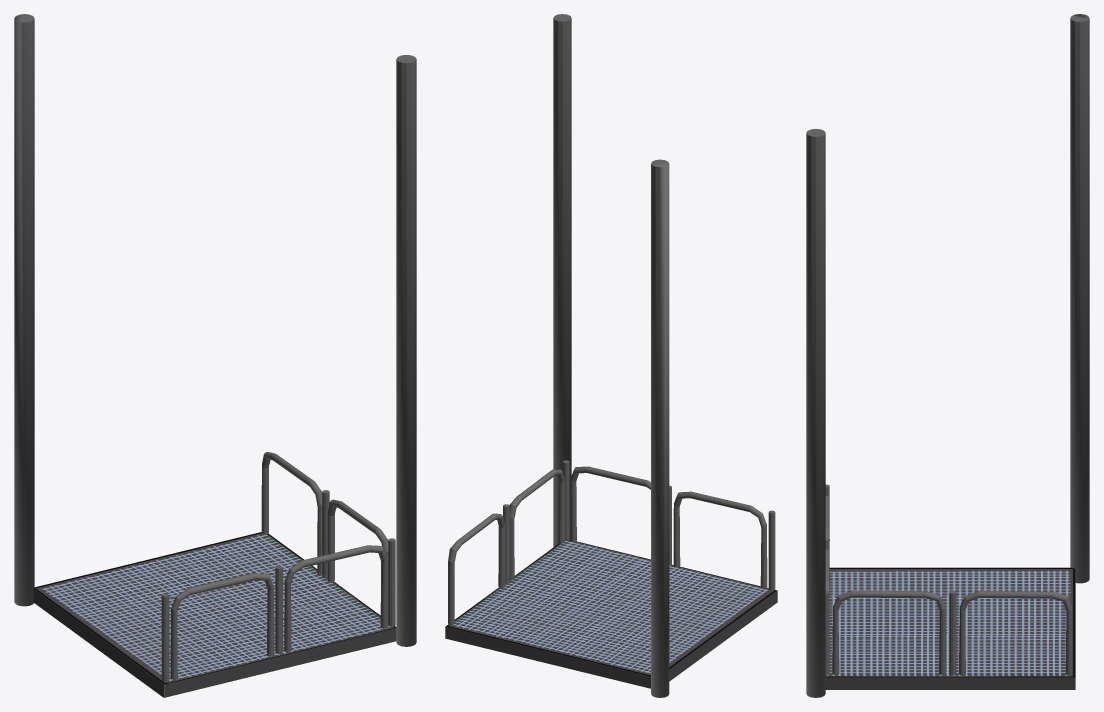
File: scaffolding_corner2.0.fbx
3 views of the same model, side by side, from view 1: azimuth 30°, elevation 25°; view 2: azimuth 150°, elevation 25°; view 3: azimuth 270°, elevation 25° (orthographic). The views are drawn at different scales.
Visible parts, largest first — view 1: Plane; view 2: Plane; view 3: Plane.
Boxes of the visible parts, bbox=[...] form: Plane: bbox=[14, 14, 416, 697]; Plane: bbox=[445, 14, 777, 697]; Plane: bbox=[806, 14, 1089, 697].
Bounding box in the file's own units: 244 × 519 × 238.
